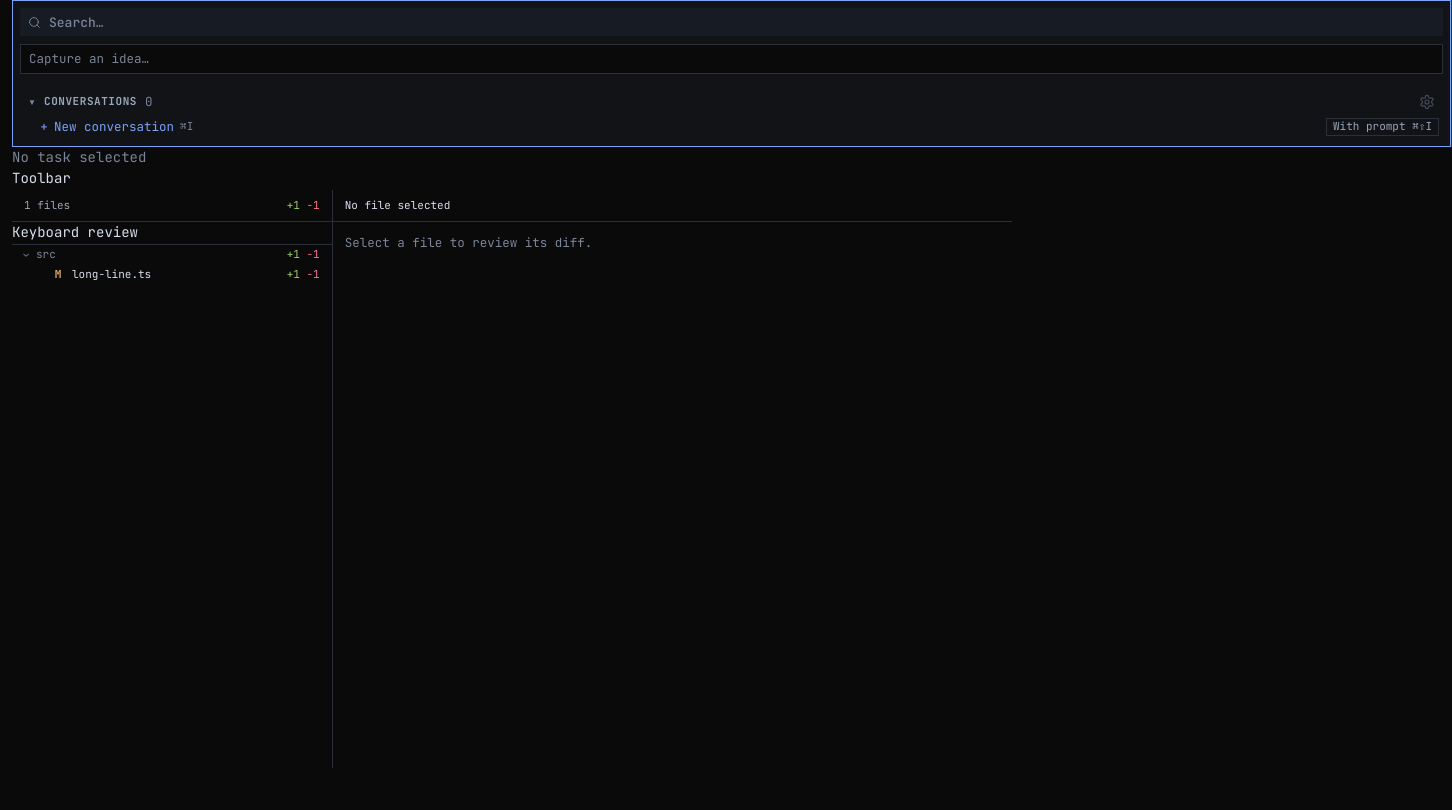
Test: overhaul acceptance - Changes diff keyboard reading › [overhaul-346] keeps the named region stable for empty diff content
Click the button with aria-label "src/long-line.ts": (112, 274) [12, 265, 332, 285]
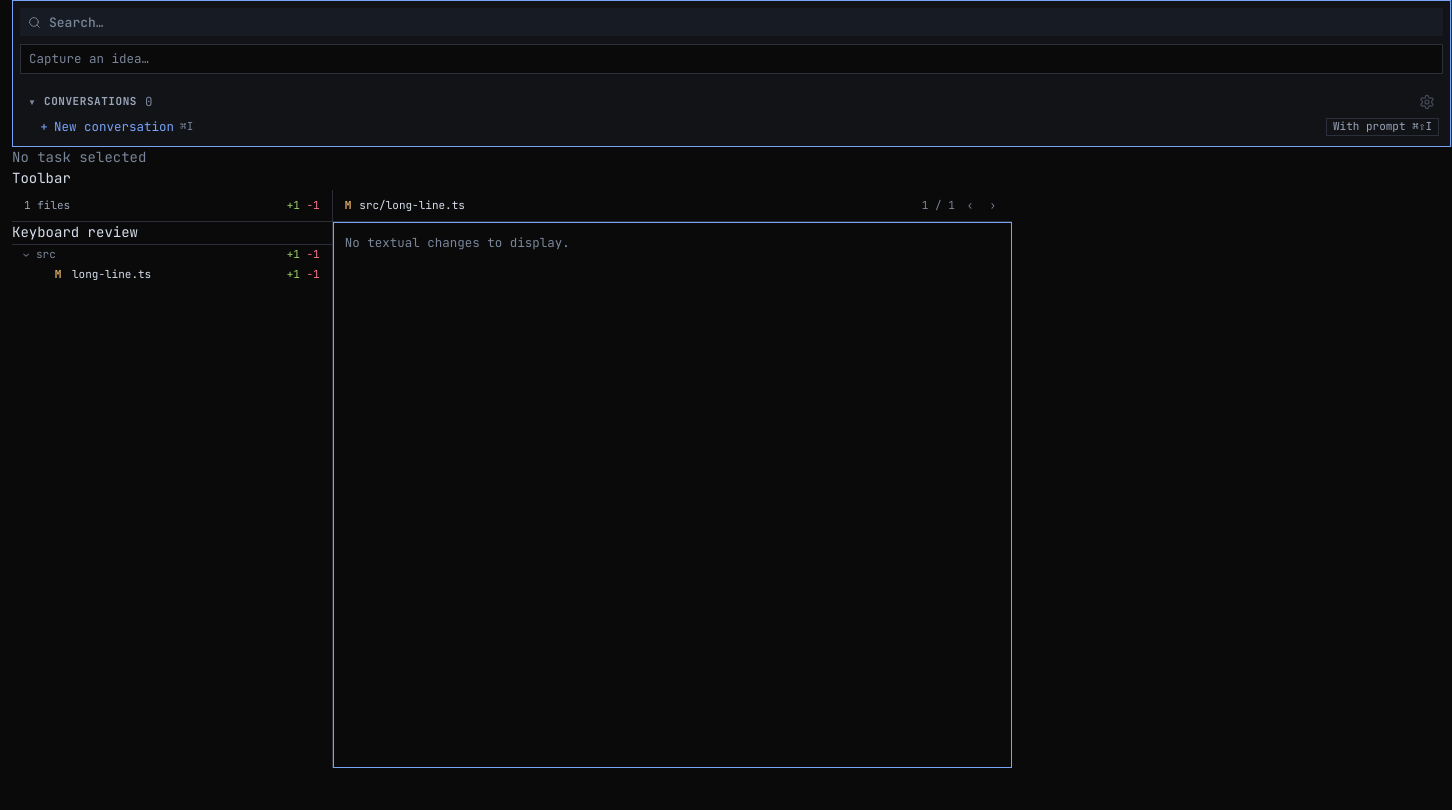
Expected: the text "No textual changes to display." is shown, [345, 234, 570, 251]
